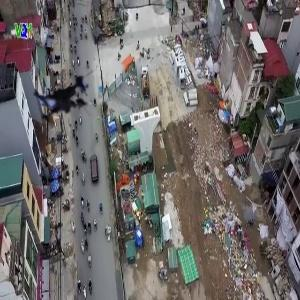drone: (5, 38, 107, 140)
